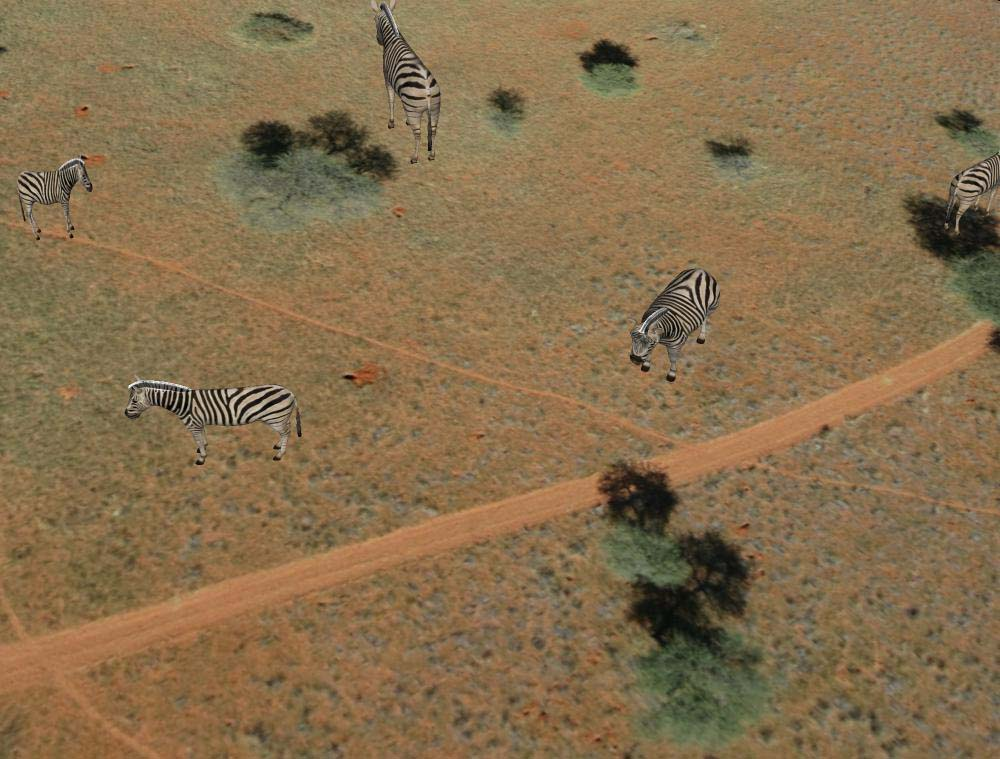zebra: (121, 365, 306, 464), (369, 2, 448, 161), (626, 261, 718, 381), (12, 154, 91, 240), (942, 140, 1000, 235)
